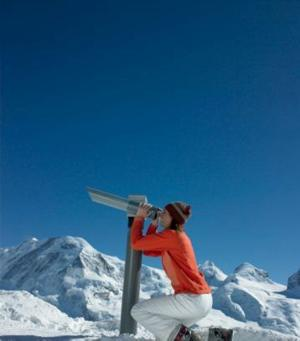person: (129, 198, 212, 339)
